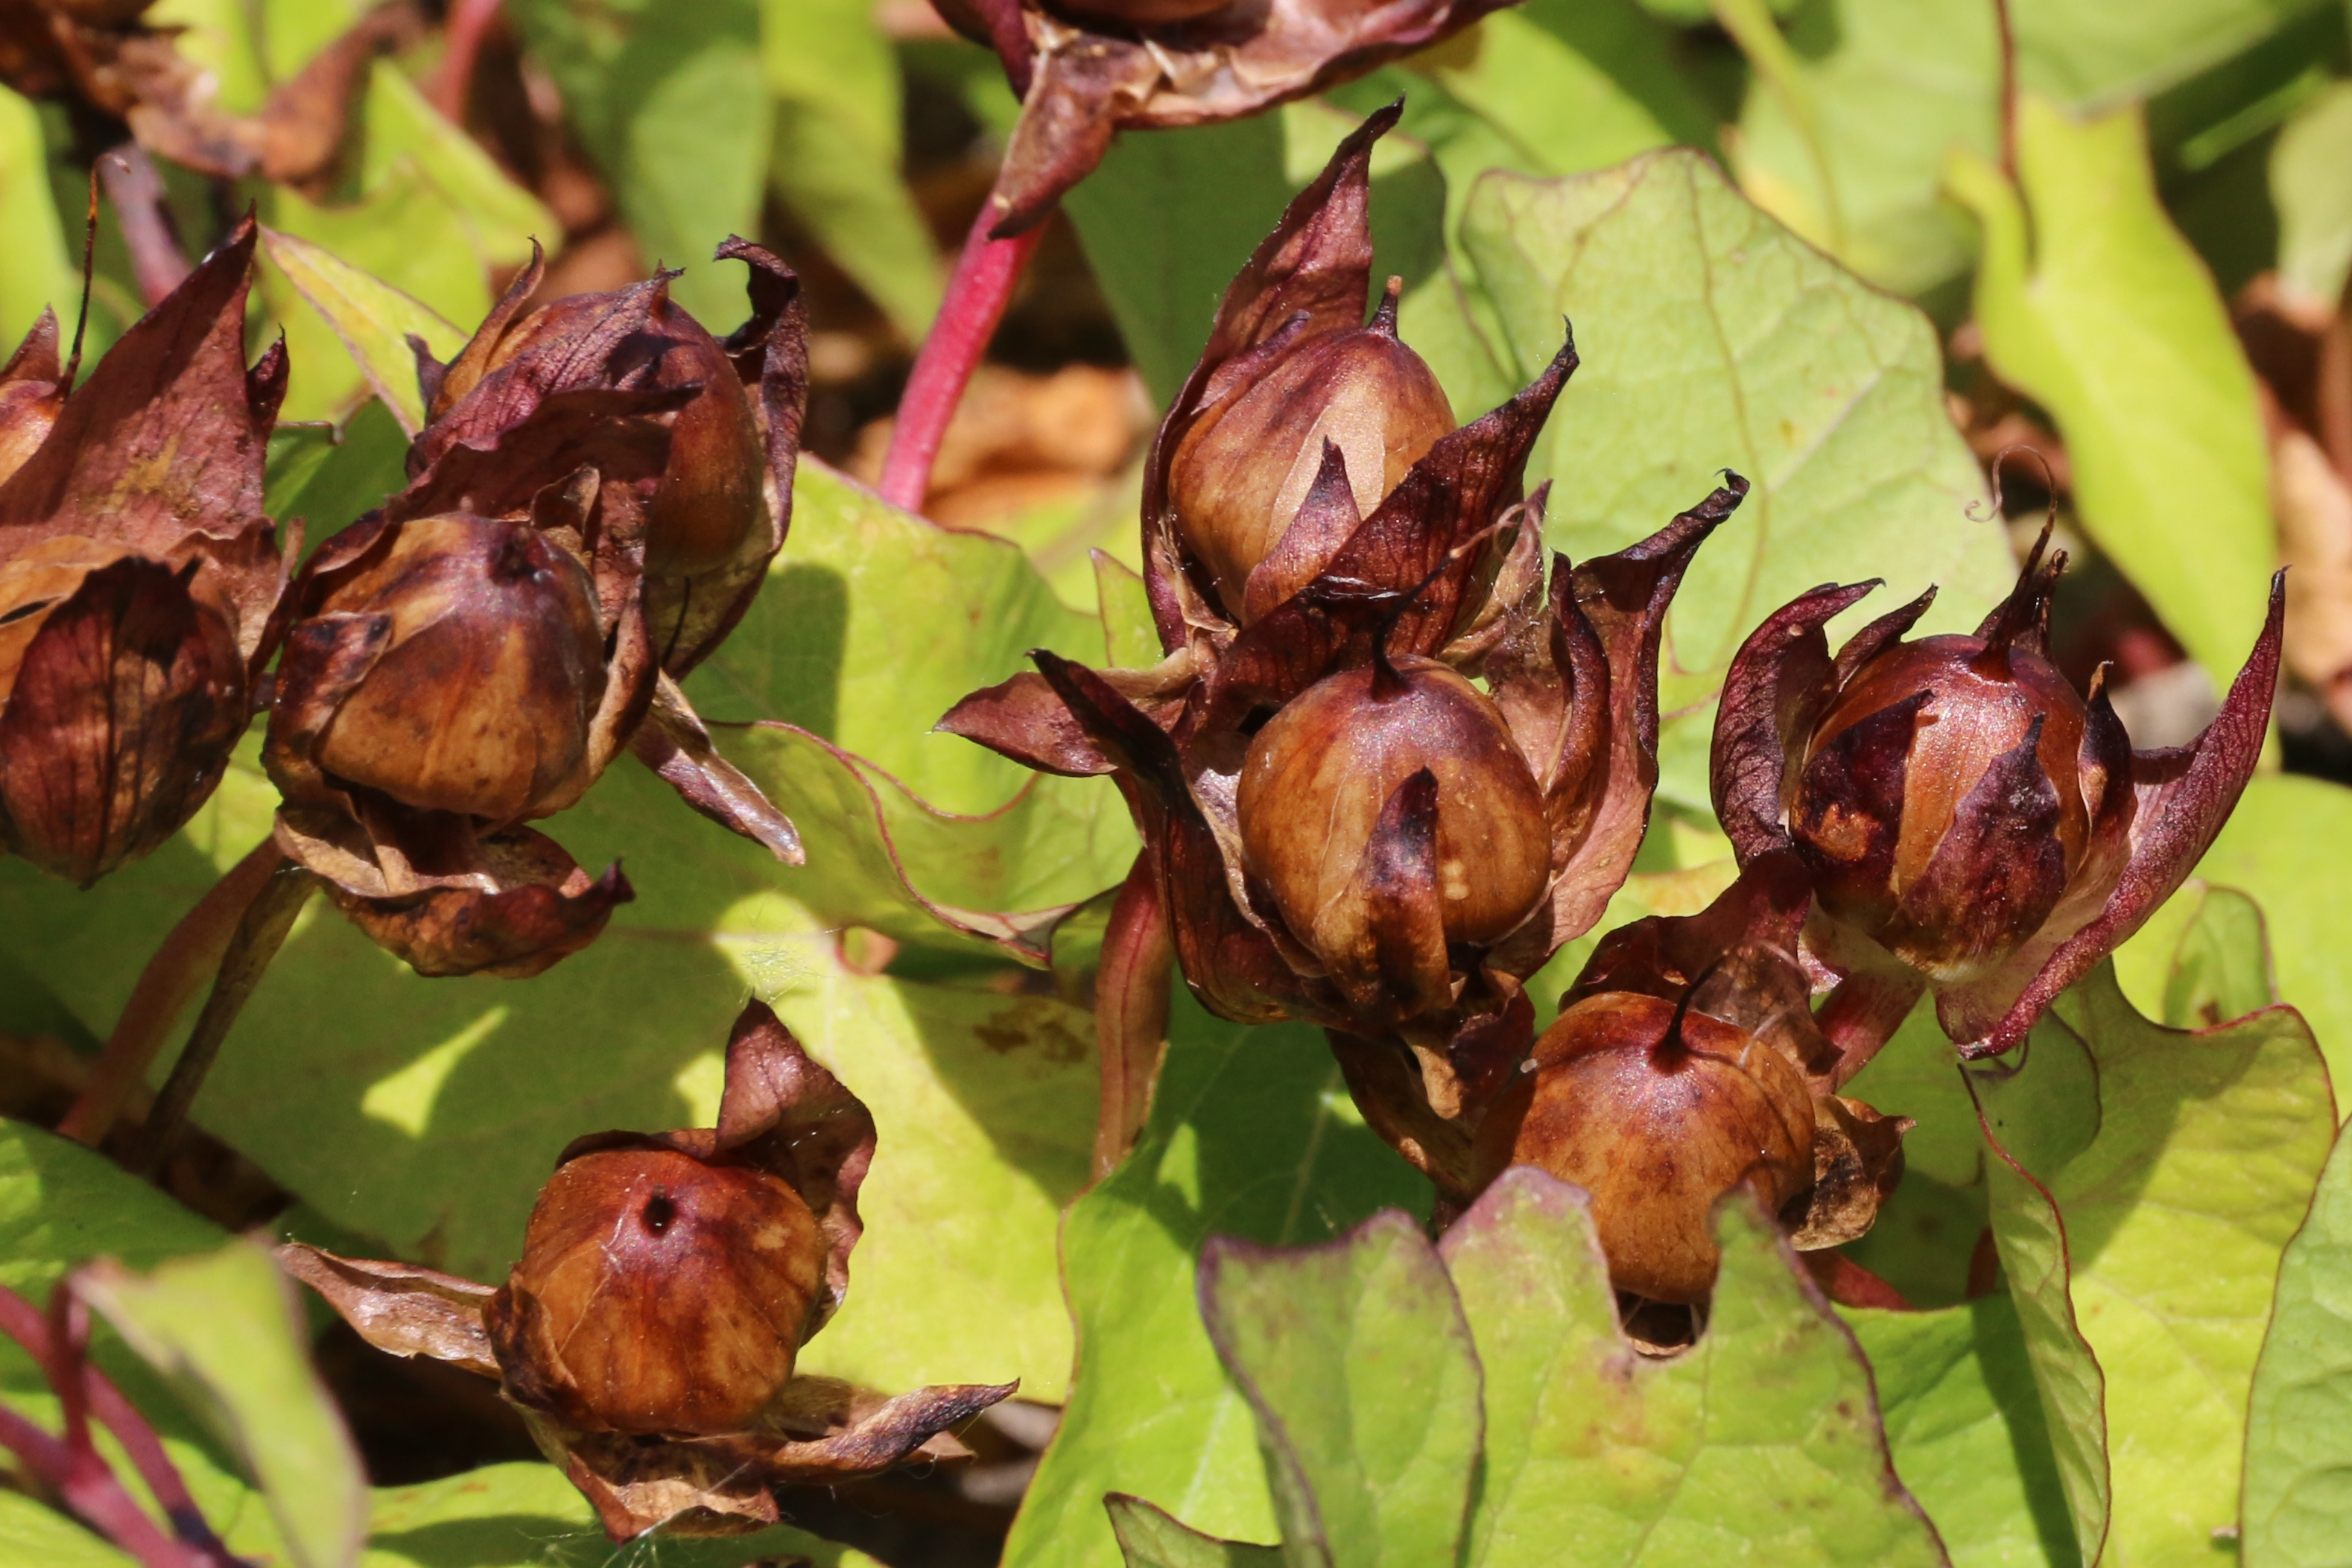haagwinde: (1129, 91, 2315, 1355), (0, 37, 900, 1479)
